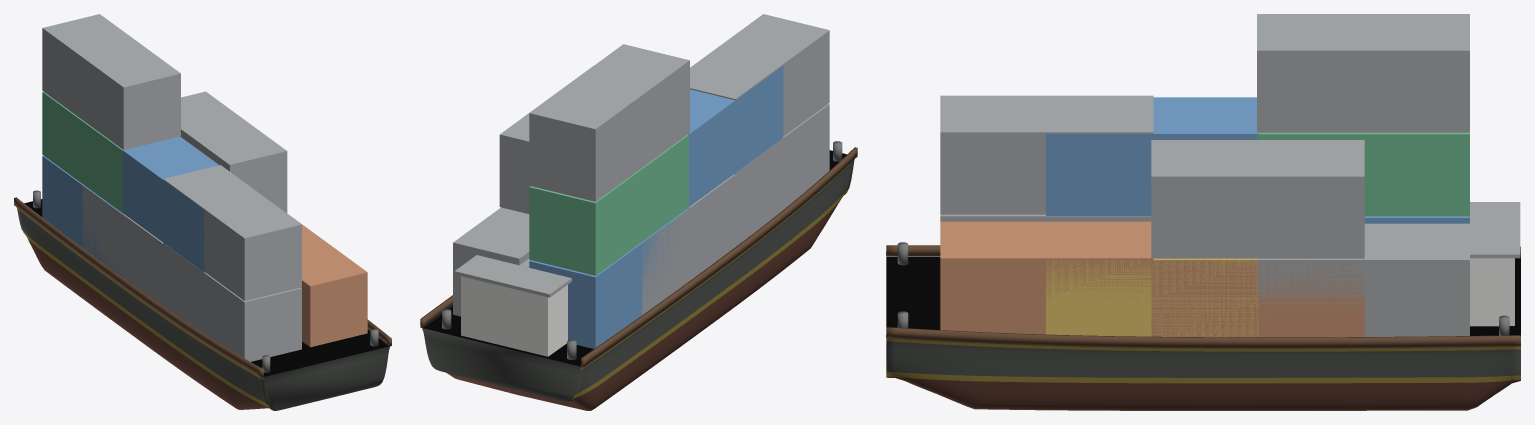
File: barge.glb
3 views of the same model, side by side, from view 1: azimuth 30°, elevation 25°; view 2: azimuth 150°, elevation 25°; view 3: azimuth 270°, elevation 25° (orthographic). The views are drawn at different scales.
Parts seen in each view (by area): view 1: Hull, Container.003, Container.012, Container.009, Container.005, Container.010, Container.011, Container.002, Container.008, Container.006, Container.001, Rubrail.001 (+1 smaller); view 2: Hull, Container.003, Container.002, Container.012, Container.009, Container.008, Container.001, Deckhouse, Container, Container.011, Container.006, Rubrail.001 (+3 smaller); view 3: Hull, Container.005, Container.003, Container.010, Container.012, Container, Container.004, Container.007, Container.009, Container.002, Rubrail, WaterMask (+4 smaller).
Part boxes in pixels (<box>): Hull: <box>16,207,390,410</box>; Container.003: <box>42,14,180,149</box>; Container.012: <box>163,165,301,300</box>; Container.009: <box>123,136,218,272</box>; Container.005: <box>180,91,287,212</box>; Container.010: <box>287,213,367,347</box>; Container.011: <box>163,243,301,361</box>; Container.002: <box>42,91,123,213</box>; Container.008: <box>123,214,204,333</box>; Container.006: <box>82,186,163,298</box>; Container.001: <box>42,155,123,276</box>; Rubrail.001: <box>14,197,264,377</box>; Hull: <box>422,159,854,410</box>; Container.003: <box>529,44,689,201</box>; Container.002: <box>529,134,689,275</box>; Container.012: <box>690,14,829,136</box>; Container.009: <box>688,66,783,206</box>; Container.008: <box>688,140,783,280</box>; Container.001: <box>529,208,688,348</box>; Deckhouse: <box>461,276,567,356</box>; Container: <box>453,207,529,316</box>; Container.011: <box>734,104,829,209</box>; Container.006: <box>642,209,735,314</box>; Rubrail.001: <box>581,147,857,367</box>; Hull: <box>886,338,1520,410</box>; Container.005: <box>1151,140,1364,258</box>; Container.003: <box>1257,14,1469,132</box>; Container.010: <box>940,221,1153,334</box>; Container.012: <box>940,95,1153,214</box>; Container: <box>1257,223,1469,336</box>; Container.004: <box>1151,260,1364,337</box>; Container.007: <box>1046,258,1258,337</box>; Container.009: <box>1046,97,1258,215</box>; Container.002: <box>1257,132,1469,216</box>; Rubrail: <box>886,327,1520,348</box>; WaterMask: <box>886,256,1520,336</box>.
Size of the model in its own units: 6.12 by 10 by 17.87.
